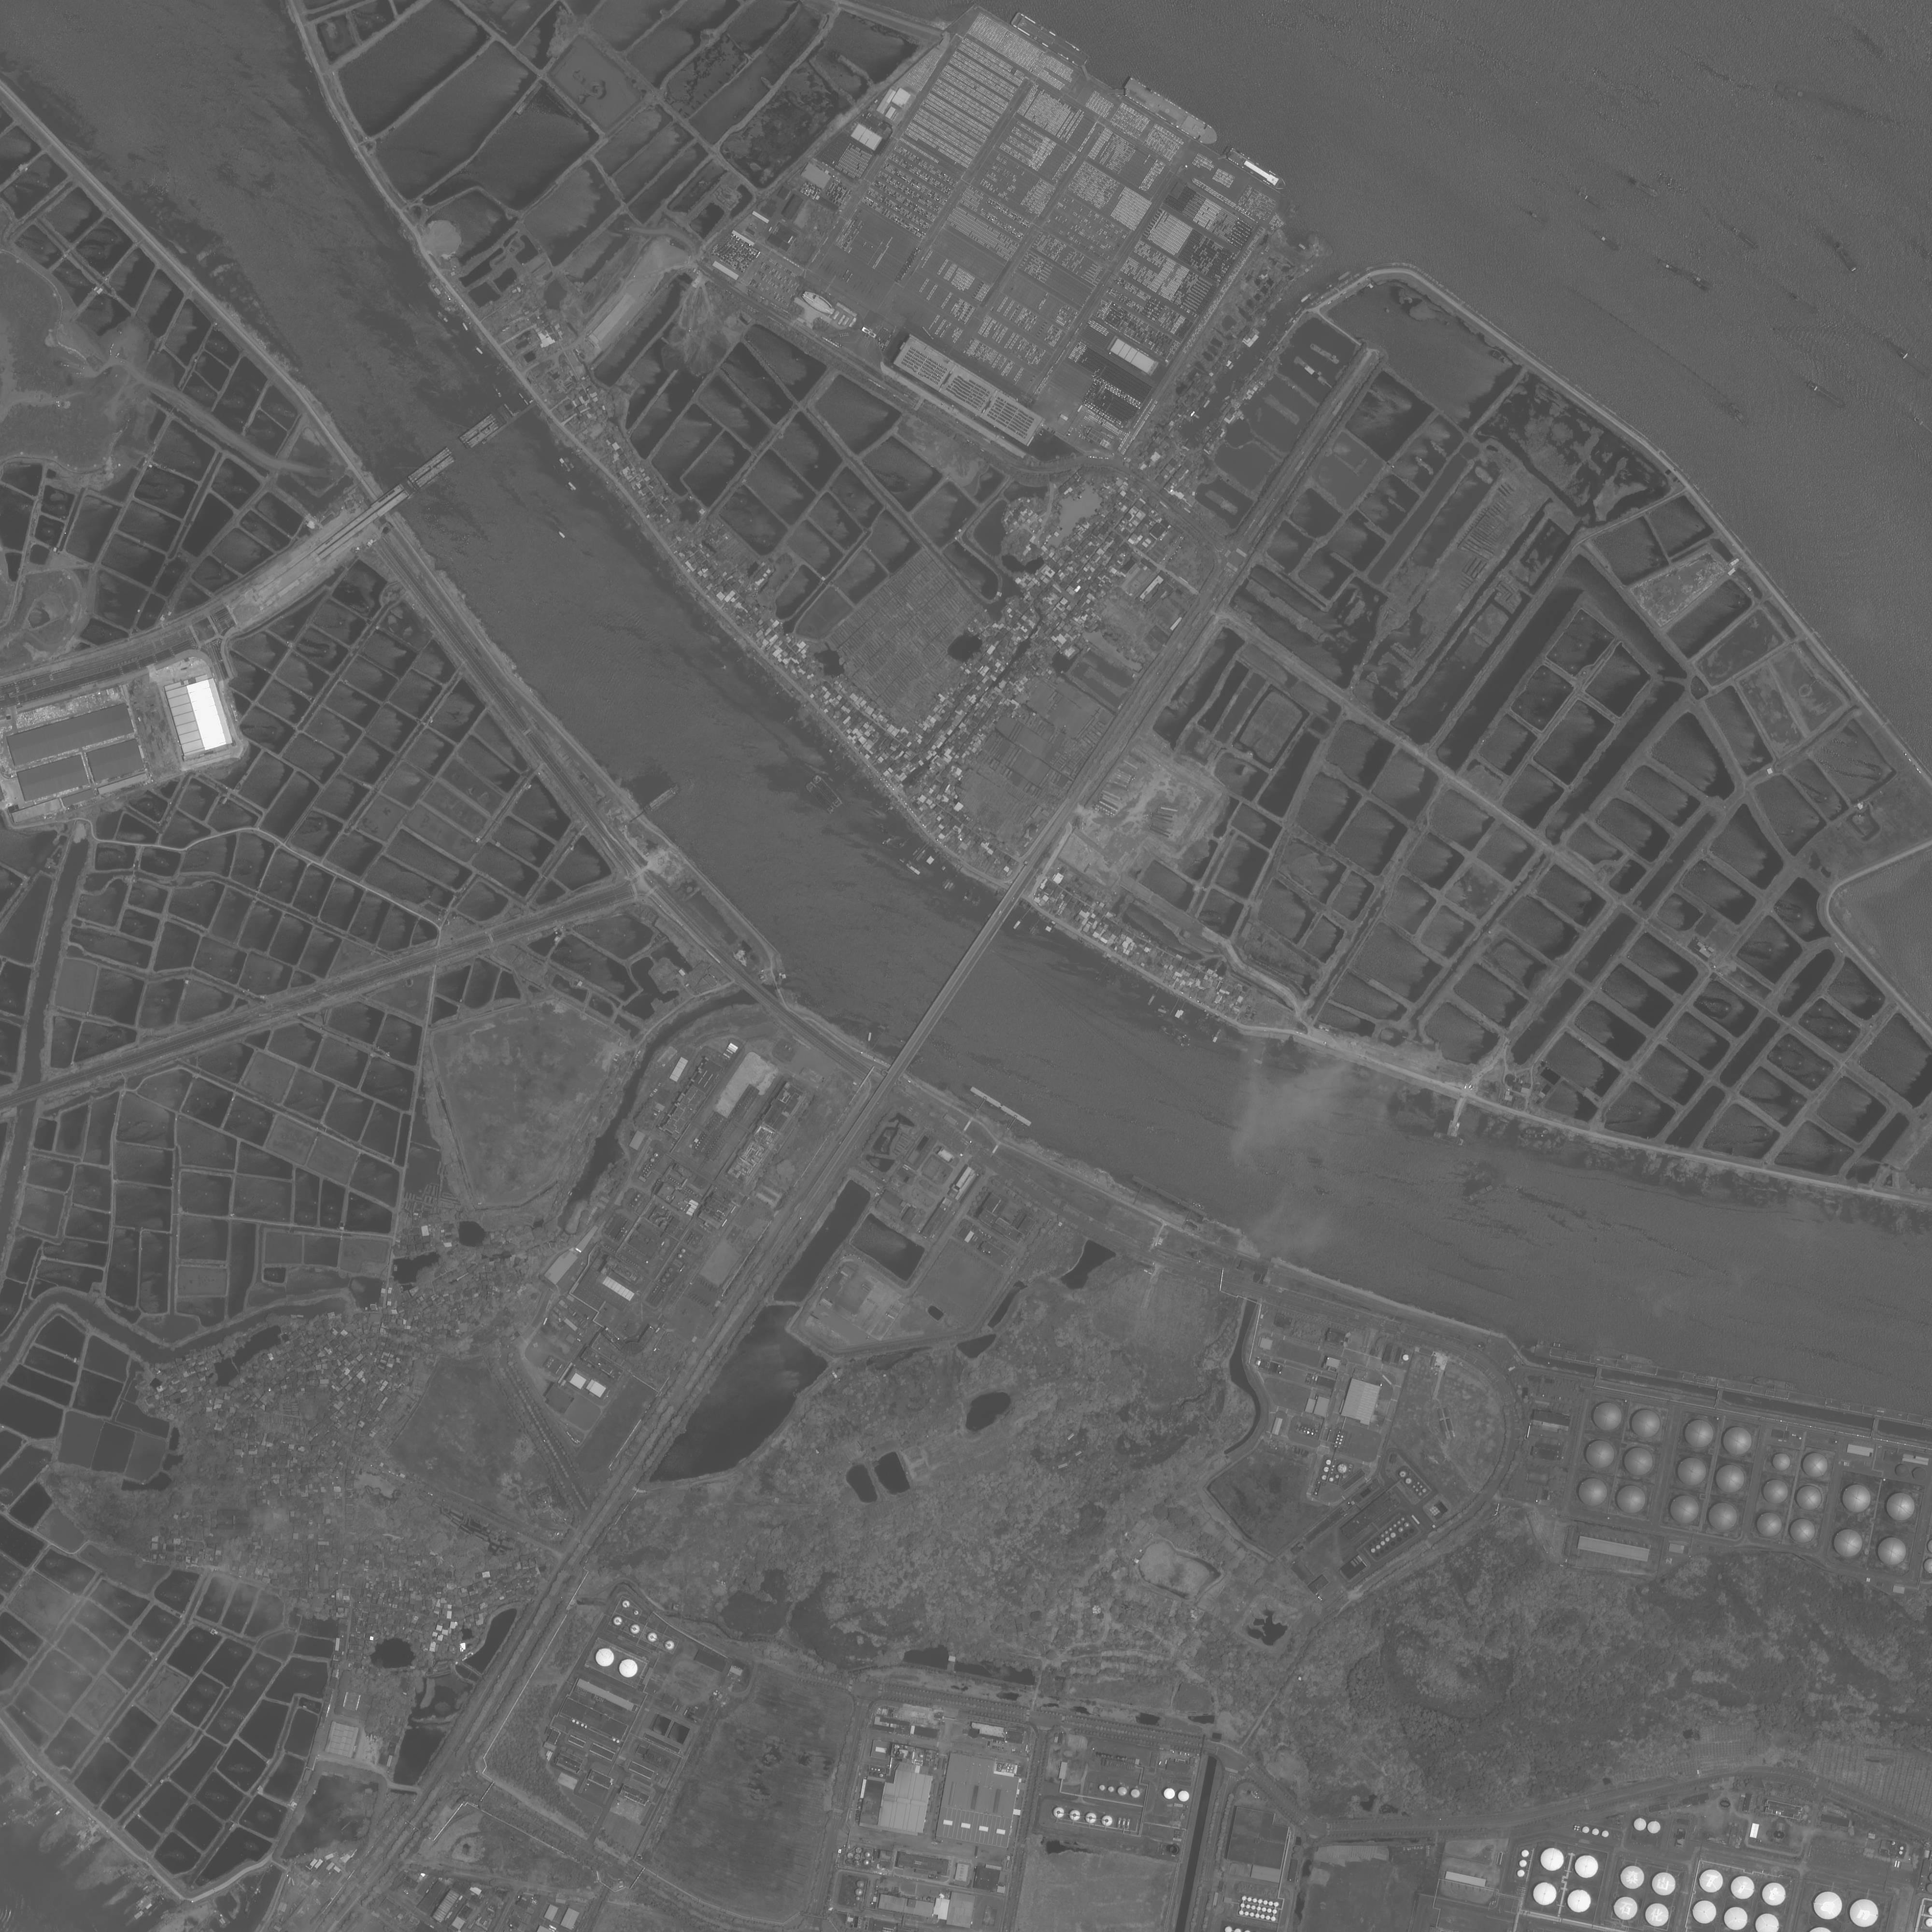bridge: (888, 881, 1026, 1079), (851, 1159, 885, 1194), (743, 985, 777, 1003), (18, 1083, 41, 1106), (1247, 1283, 1263, 1300), (1210, 1737, 1221, 1759)
harbor: (1529, 1343, 1932, 1430), (1131, 1175, 1210, 1219), (968, 1085, 1033, 1127), (1445, 1099, 1467, 1136)
ship: (1120, 78, 1223, 150), (1010, 12, 1092, 71), (1224, 147, 1288, 193), (642, 782, 683, 816), (1806, 380, 1849, 410), (805, 780, 837, 814), (812, 775, 844, 809), (1897, 349, 1932, 379), (1833, 242, 1858, 274), (1752, 1376, 1799, 1392), (1730, 228, 1760, 253), (1576, 189, 1608, 212), (1594, 230, 1621, 253), (1537, 1338, 1578, 1352), (1619, 1352, 1656, 1366), (1635, 180, 1661, 198), (1433, 1132, 1465, 1146), (1691, 272, 1714, 290), (1656, 260, 1681, 274), (435, 310, 449, 322), (1691, 281, 1707, 290), (568, 481, 577, 492), (557, 531, 566, 538), (462, 322, 469, 331)
storage tank: (1877, 1537, 1909, 1568), (1842, 1483, 1872, 1514), (1707, 1502, 1737, 1534), (1684, 1419, 1714, 1449), (1833, 1529, 1863, 1557), (1886, 1493, 1916, 1522), (1851, 1898, 1879, 1928), (1813, 1890, 1842, 1920), (1723, 1426, 1753, 1454), (1624, 1447, 1654, 1476), (1617, 1484, 1645, 1514), (1670, 1497, 1698, 1525), (1578, 1479, 1606, 1507), (1592, 1403, 1622, 1430), (1587, 1440, 1614, 1470), (1794, 1484, 1822, 1511), (1716, 1467, 1744, 1493), (1679, 1458, 1706, 1484), (1633, 1410, 1660, 1437), (1790, 1518, 1815, 1545), (1757, 1513, 1782, 1539), (1651, 1872, 1677, 1897), (1691, 1900, 1718, 1925), (1764, 1479, 1789, 1506), (1621, 1865, 1645, 1890), (1730, 1875, 1755, 1900), (1645, 1902, 1670, 1927), (1575, 1854, 1599, 1879), (1803, 1453, 1828, 1477), (1700, 1868, 1723, 1895), (1762, 1882, 1787, 1905), (1614, 1897, 1638, 1920), (1568, 1890, 1592, 1913), (1723, 1907, 1748, 1930), (1532, 1882, 1557, 1905), (1541, 1847, 1564, 1872), (1755, 1913, 1780, 1932), (619, 1658, 639, 1679), (594, 1647, 614, 1667), (1773, 1453, 1792, 1470), (1647, 1821, 1661, 1835), (1635, 1817, 1647, 1831), (1085, 1812, 1097, 1824), (1053, 1806, 1065, 1819), (1178, 1790, 1191, 1803), (1100, 1815, 1113, 1826), (1069, 1808, 1079, 1821), (1164, 1787, 1175, 1799), (630, 1624, 640, 1635), (648, 1631, 656, 1642), (665, 1640, 674, 1651), (1338, 1463, 1346, 1474), (1131, 1789, 1141, 1798), (614, 1617, 623, 1626), (1118, 1787, 1127, 1796), (1522, 1849, 1529, 1858), (855, 1847, 863, 1854), (623, 1599, 630, 1608), (1403, 1353, 1410, 1362), (855, 1888, 863, 1895), (1516, 1870, 1525, 1877), (1391, 1532, 1398, 1539), (1399, 1470, 1407, 1477), (855, 1854, 862, 1861), (1099, 1783, 1106, 1790), (856, 1881, 863, 1888), (1520, 1859, 1527, 1867), (1582, 1826, 1589, 1833), (1592, 1828, 1599, 1835), (1375, 1545, 1382, 1550), (865, 1851, 870, 1858), (863, 1859, 869, 1867), (1325, 1460, 1332, 1465), (1108, 1787, 1115, 1792), (847, 1852, 853, 1859), (1603, 1831, 1608, 1838), (1258, 1898, 1263, 1904), (1253, 1898, 1258, 1904), (1247, 1897, 1253, 1902), (1417, 1491, 1422, 1497), (1371, 1548, 1376, 1553), (1380, 1541, 1385, 1546), (1398, 1527, 1403, 1532), (1405, 1522, 1410, 1527), (1407, 1479, 1412, 1484), (1263, 1900, 1269, 1905), (1274, 1902, 1279, 1907), (1270, 1916, 1276, 1921), (1260, 1914, 1265, 1920), (1272, 1909, 1277, 1914), (1267, 1909, 1272, 1914), (1261, 1907, 1267, 1913), (1256, 1905, 1261, 1911), (1251, 1905, 1256, 1911), (1246, 1904, 1251, 1909), (1322, 1474, 1327, 1479), (1323, 1467, 1329, 1472), (633, 1610, 639, 1615), (855, 1897, 860, 1902), (1242, 1897, 1246, 1902), (1422, 1488, 1426, 1493), (1385, 1537, 1391, 1541), (1269, 1902, 1272, 1907), (1246, 1911, 1249, 1916), (1267, 1914, 1270, 1920), (1238, 1911, 1244, 1914), (1240, 1904, 1246, 1907), (1329, 1477, 1334, 1481), (1256, 1914, 1260, 1918), (1251, 1913, 1254, 1916)
